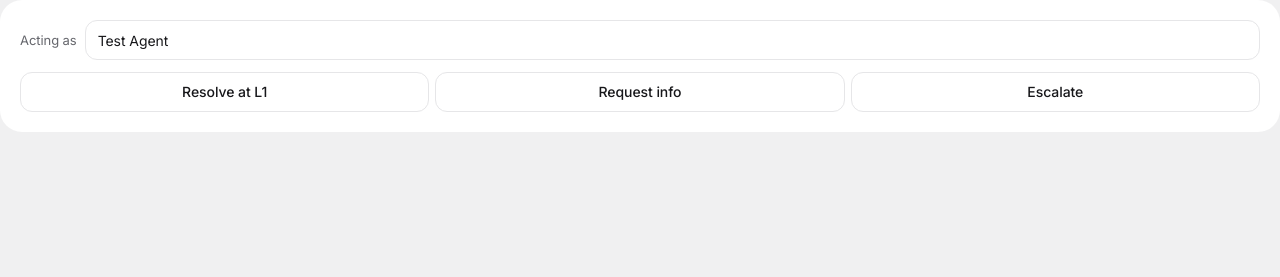
Test: DecisionBar › waits for a running re-check before confirming, except on P1
Click the button "Escalate" at (1055, 92), box [851,72,1260,112]
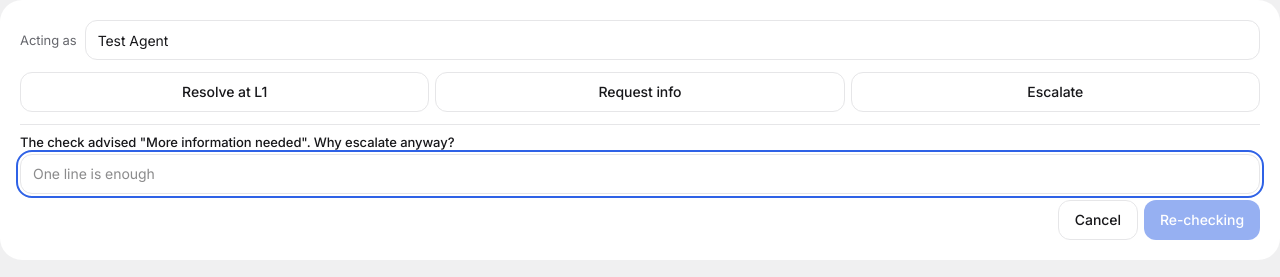
Result: the button "Re-checking" is disabled at [1144,200,1260,240]
